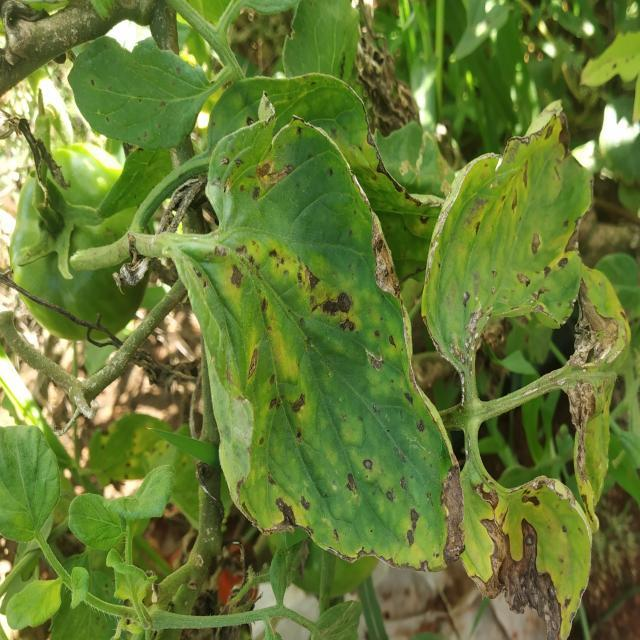Tomato mosaic virus leaf: (180, 94, 467, 577), (418, 99, 596, 372), (466, 468, 594, 640), (66, 34, 203, 150)
